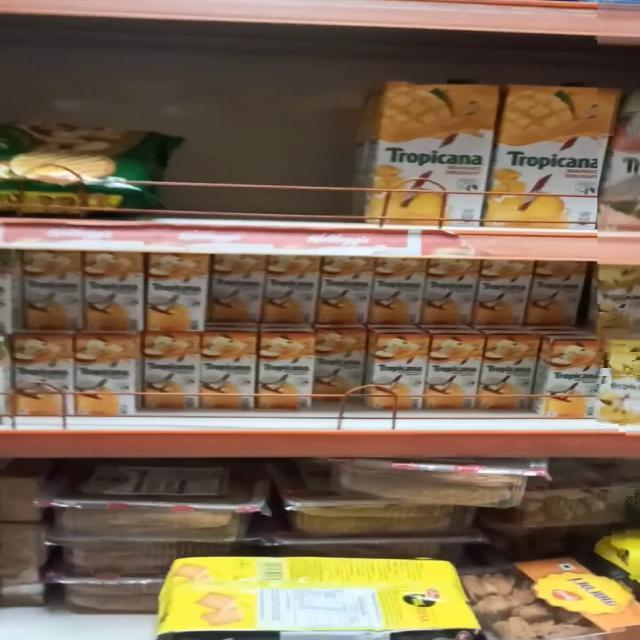Tropicana: (360, 76, 490, 226), (496, 78, 614, 224), (16, 252, 95, 332), (141, 252, 207, 331), (6, 338, 71, 418), (542, 339, 600, 422), (422, 255, 480, 337), (88, 251, 142, 335), (370, 334, 430, 409), (76, 339, 138, 410), (200, 336, 262, 406), (139, 336, 199, 408), (258, 334, 312, 409), (265, 252, 319, 326), (210, 256, 266, 326), (528, 261, 582, 331), (317, 254, 366, 328), (428, 334, 477, 408), (312, 332, 368, 396), (484, 259, 532, 332), (482, 338, 530, 408), (373, 259, 422, 325)
